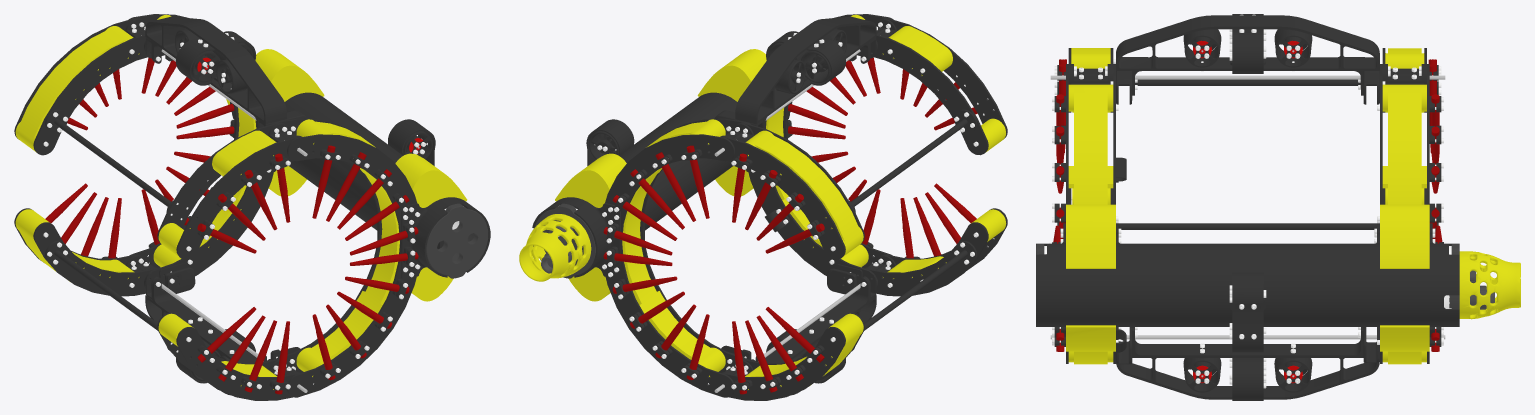
Rendered from COALA2.glb.
3 views of the same model, side by side, from view 1: azimuth 30°, elevation 25°; view 2: azimuth 150°, elevation 25°; view 3: azimuth 270°, elevation 25° (orthographic). The views are drawn at different scales.
Parts seen in each view (by area): view 1: SubC-01-0005/SubC-02-0033; view 2: SubC-01-0005/SubC-02-0033; view 3: SubC-01-0005/SubC-02-0033.
Boxes of the visible parts, <box> form: SubC-01-0005/SubC-02-0033: <box>14,14,490,400</box>; SubC-01-0005/SubC-02-0033: <box>519,14,1007,400</box>; SubC-01-0005/SubC-02-0033: <box>1036,14,1520,400</box>.
Bounding box in the file's own units: 313 × 303 × 357.
2 materials, 2 textured.
